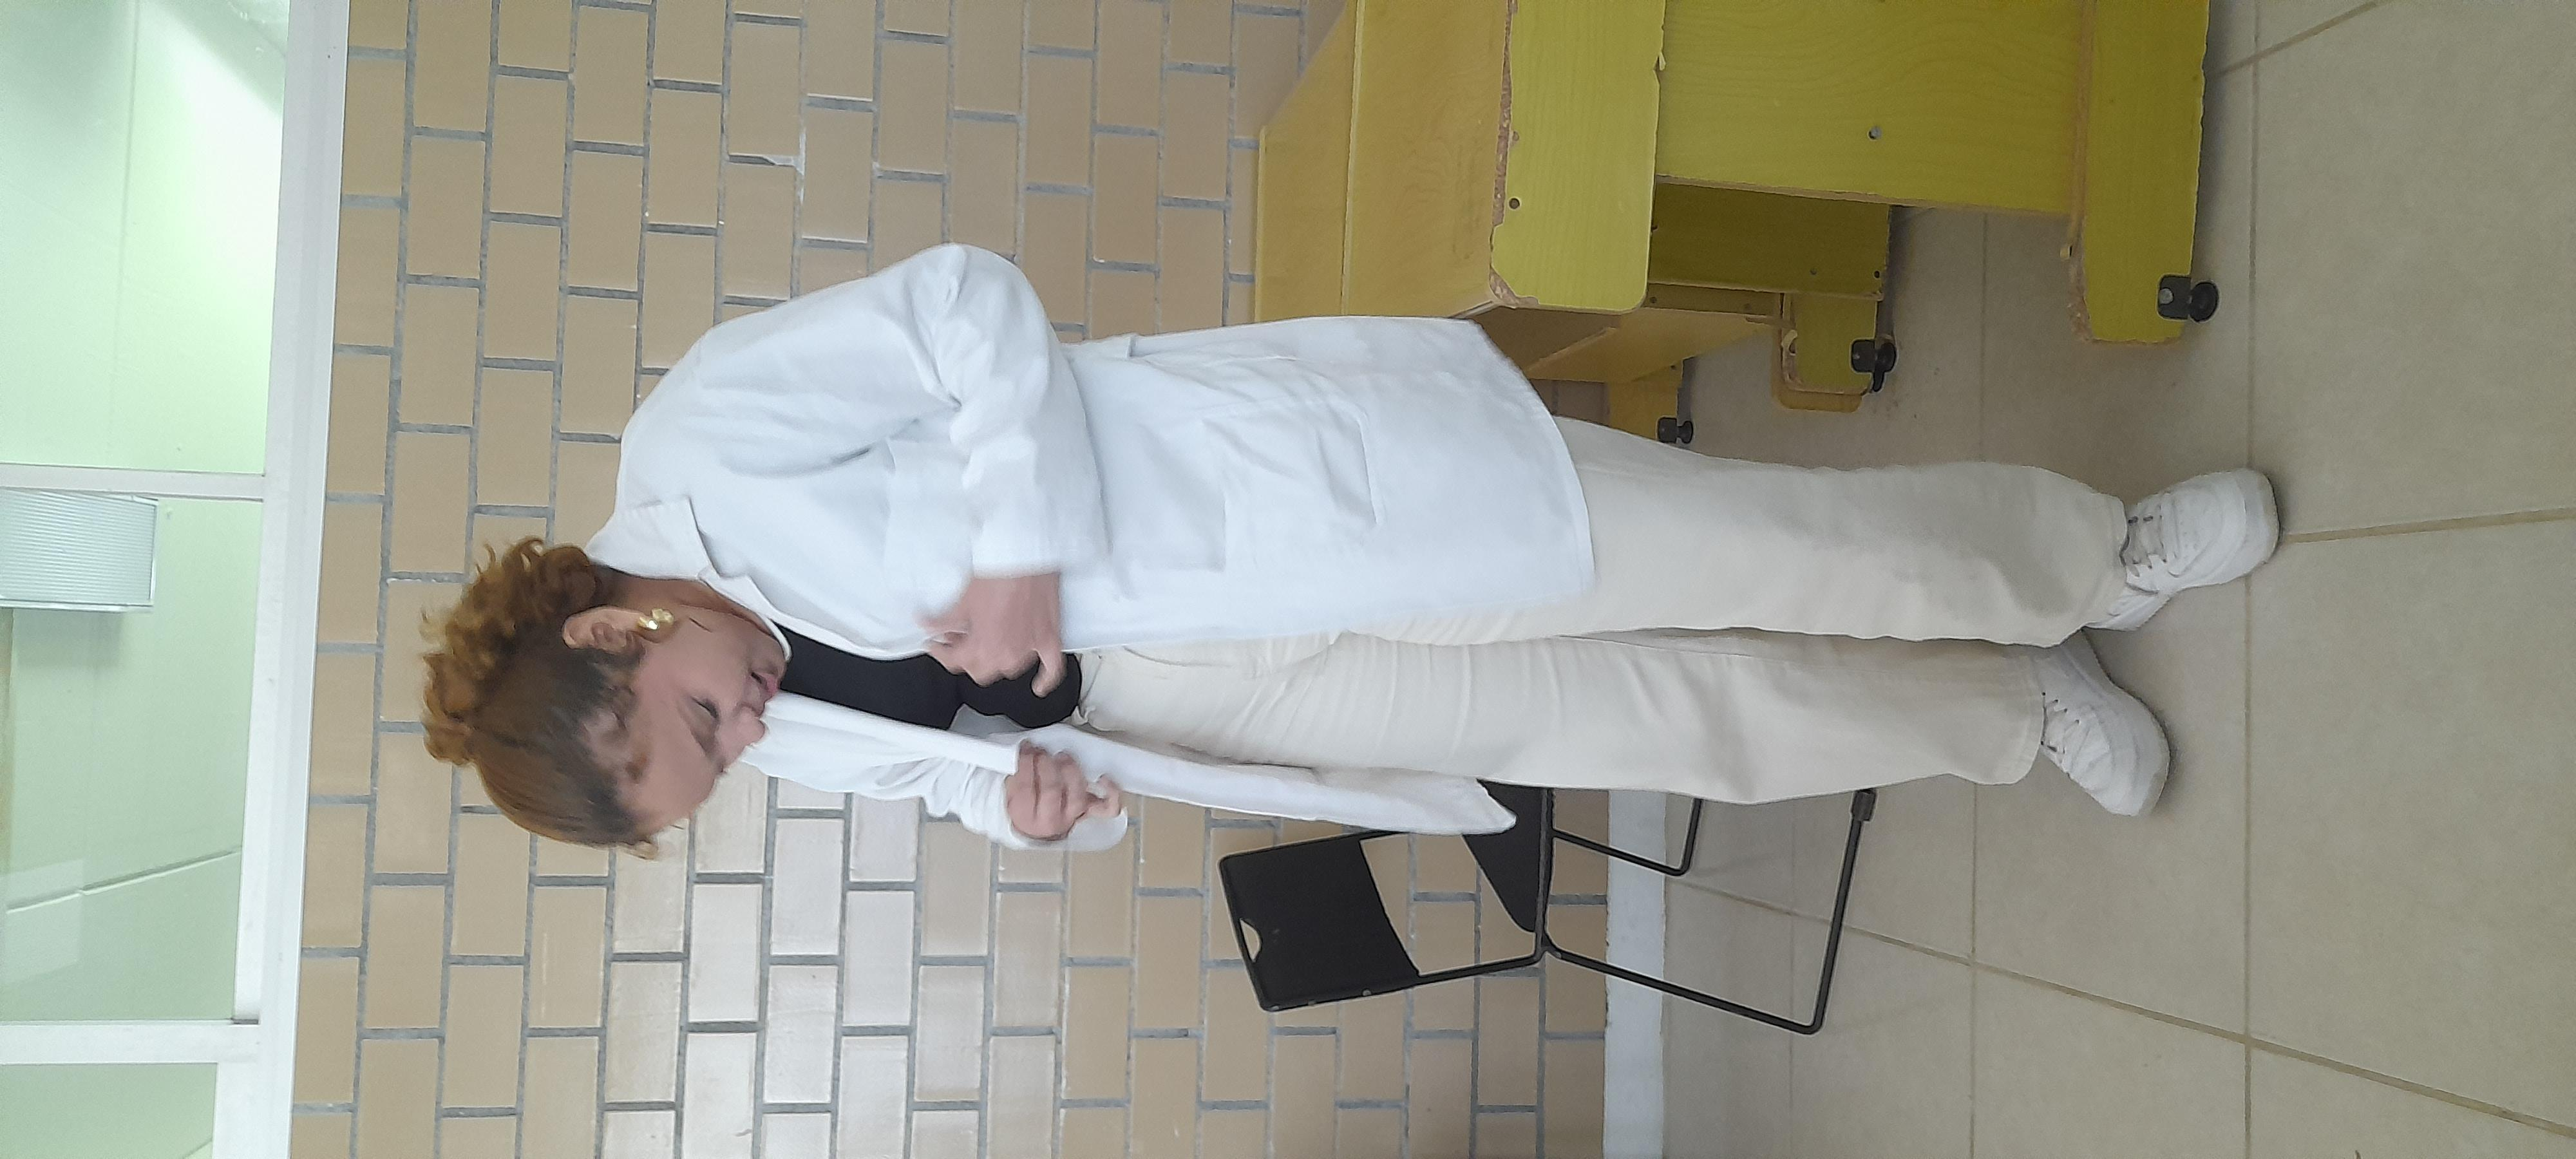Bata-Incorrecta: (544, 163, 2118, 1061)
